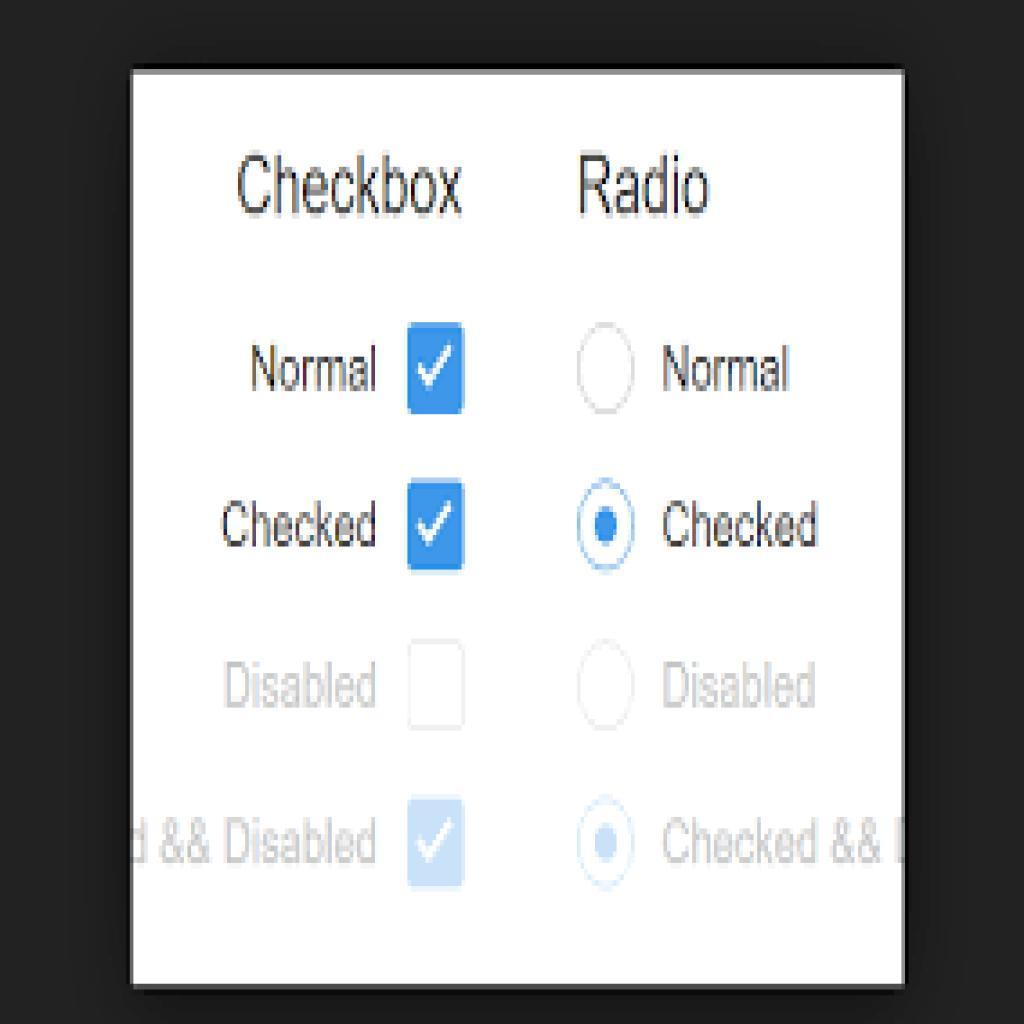checkbox: (401, 636, 469, 732), (406, 481, 466, 575), (406, 796, 462, 891), (407, 326, 465, 417)
radio: (573, 478, 640, 580), (572, 790, 637, 891), (574, 320, 639, 417), (574, 639, 639, 734)
